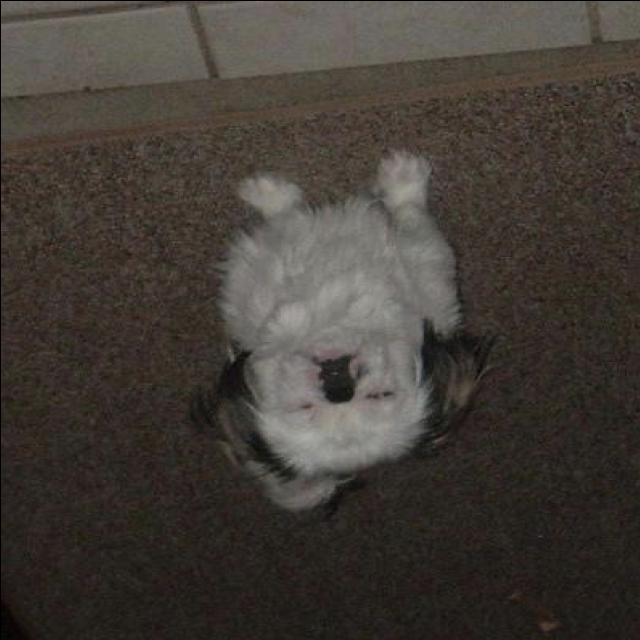pekinese: (187, 148, 492, 519)
